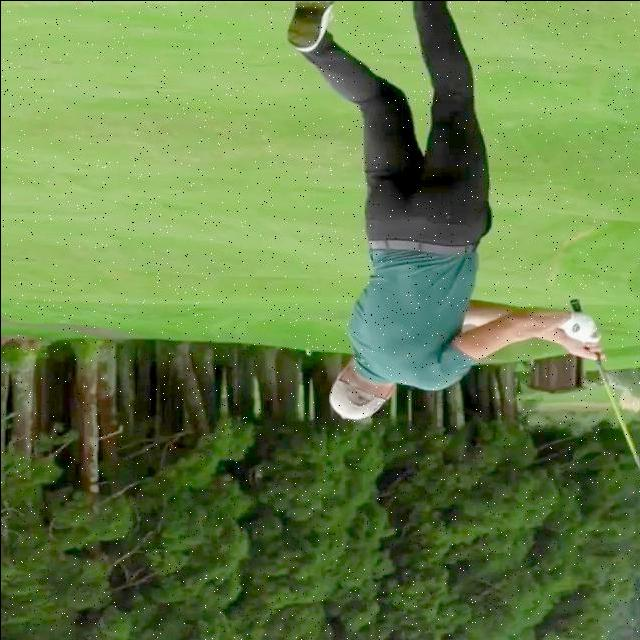golf club-handle: (569, 297, 640, 472)
